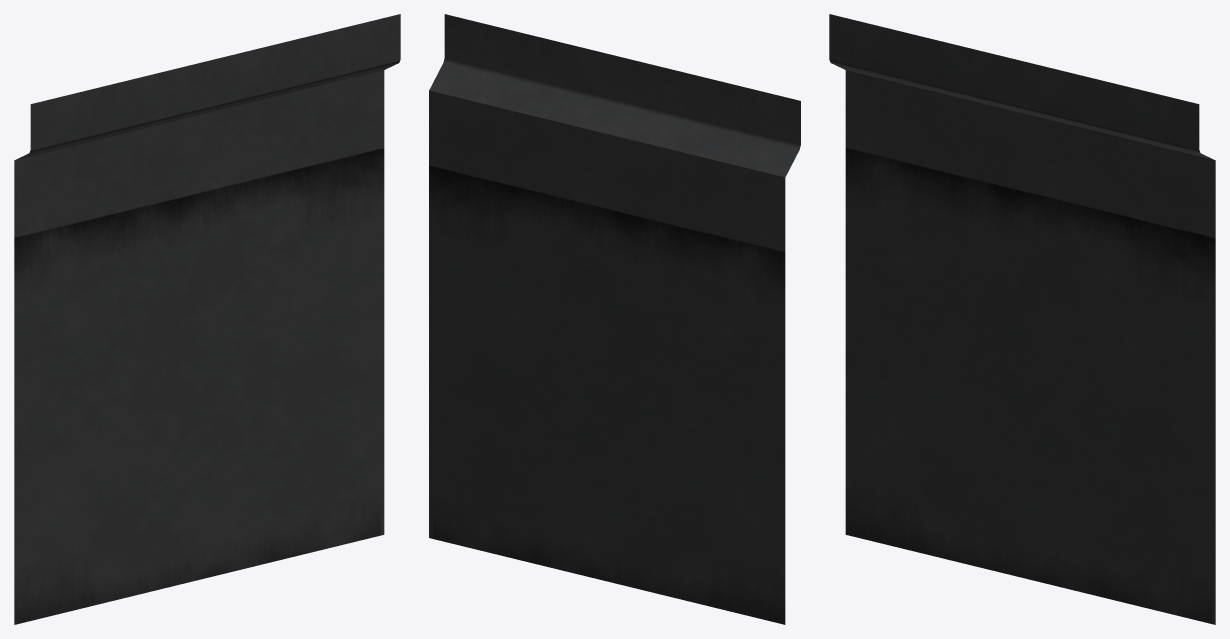
Rendered from M_Wall_Uper Half_4x20-145_v4.fbx.
3 views of the same model, side by side, from view 1: azimuth 30°, elevation 25°; view 2: azimuth 150°, elevation 25°; view 3: azimuth 330°, elevation 25° (orthographic). The views are drawn at different scales.
Visible parts, largest first — view 1: Wall_Upper_Wall_145_20_v4; view 2: Wall_Upper_Wall_145_20_v4; view 3: Wall_Upper_Wall_145_20_v4.
Part boxes in pixels (x1,y1,x2,y2): Wall_Upper_Wall_145_20_v4: (14,14,400,624); Wall_Upper_Wall_145_20_v4: (429,14,800,624); Wall_Upper_Wall_145_20_v4: (829,14,1215,624).
Bounding box in the file's own units: 400 × 550 × 30.
